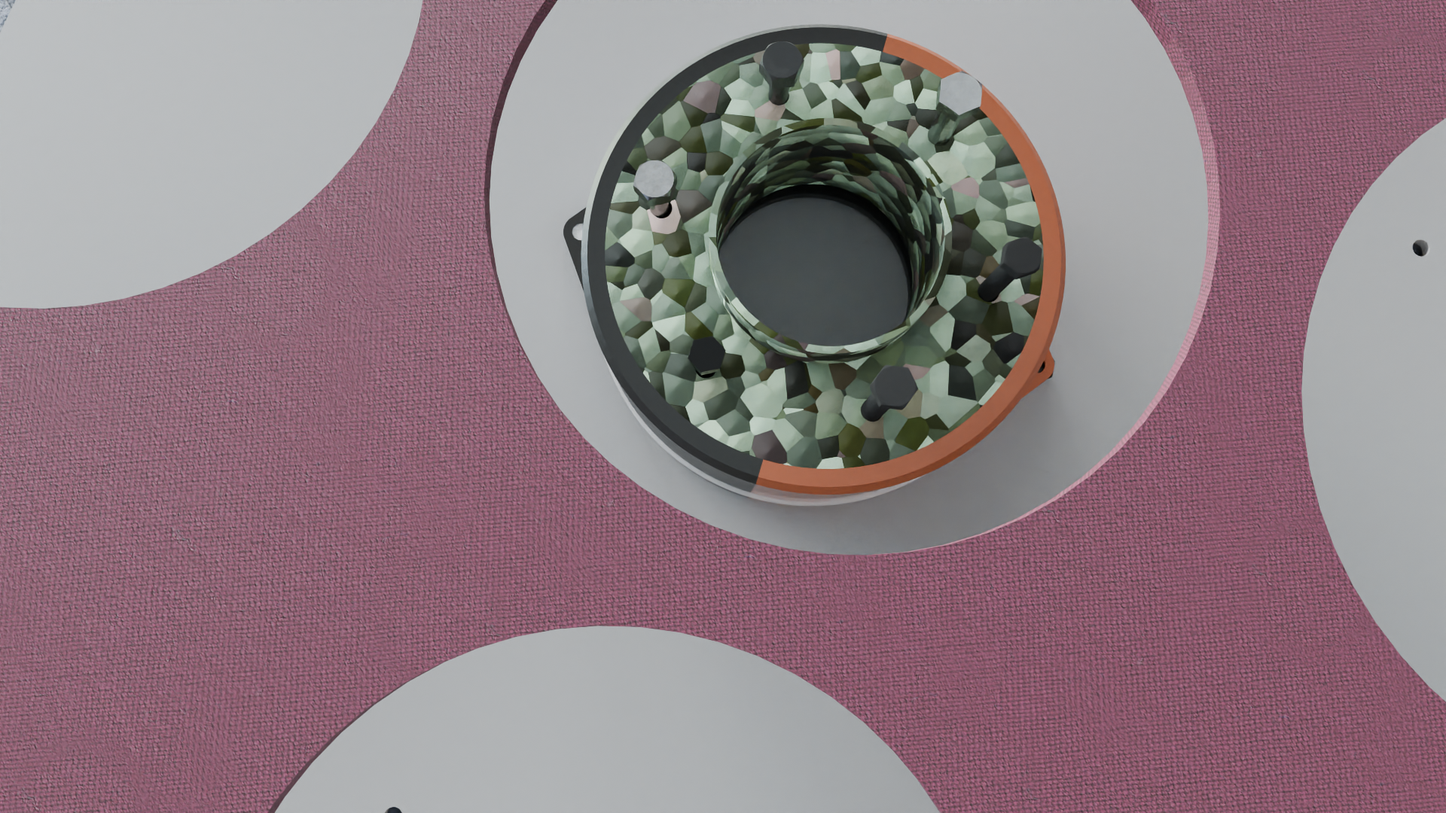bolt: (871, 365, 918, 407), (939, 71, 982, 115), (759, 41, 804, 81), (633, 160, 676, 201), (1004, 236, 1042, 276), (688, 336, 726, 373)
